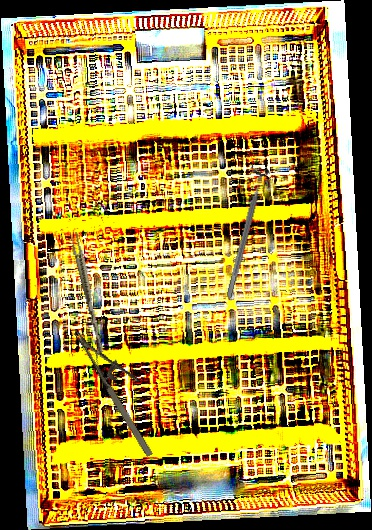Fixation Ring: (218, 164, 272, 301)
Needle Holder: (72, 314, 174, 460)
Tissue Forceps: (67, 231, 108, 354)
